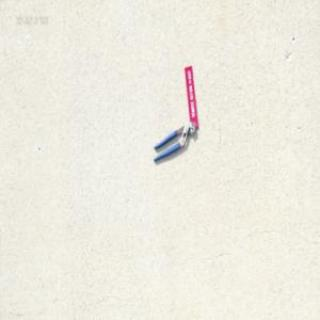LuggageTagtrack_idkeyframe: (183, 65, 198, 127)
Pliertrack_idkeyframe: (152, 120, 194, 162)
